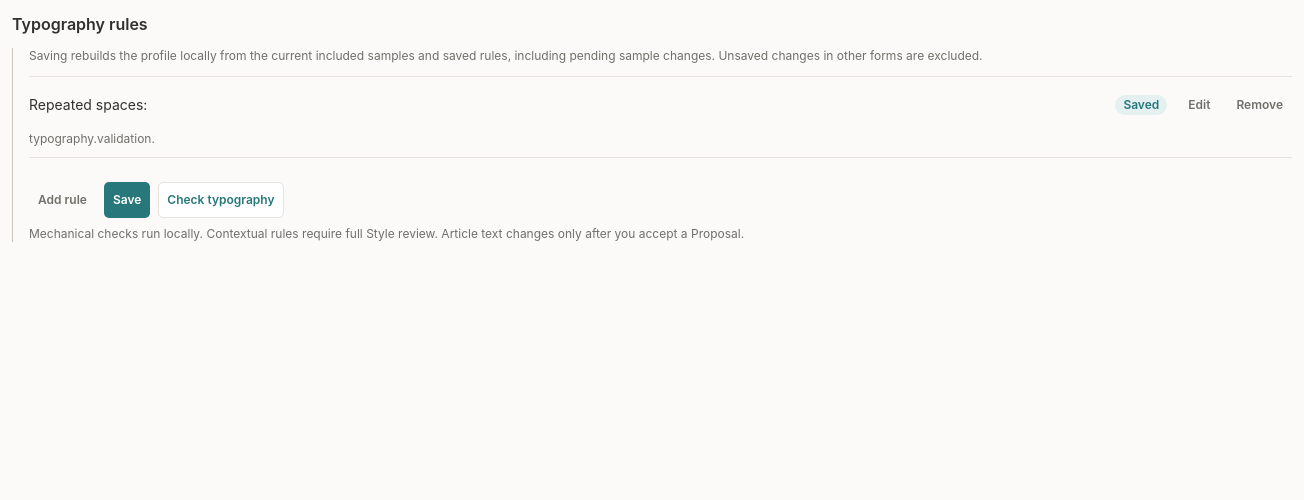
Test: keeps saved rows compact and expands only the active rule with an unsaved label
The width and height of the screenshot is (1304, 500).
Expected: the text "Saved" is shown, [1115,95,1167,115]
Click the button "Edit": {"x": 1199, "y": 105} [1179,87,1219,123]
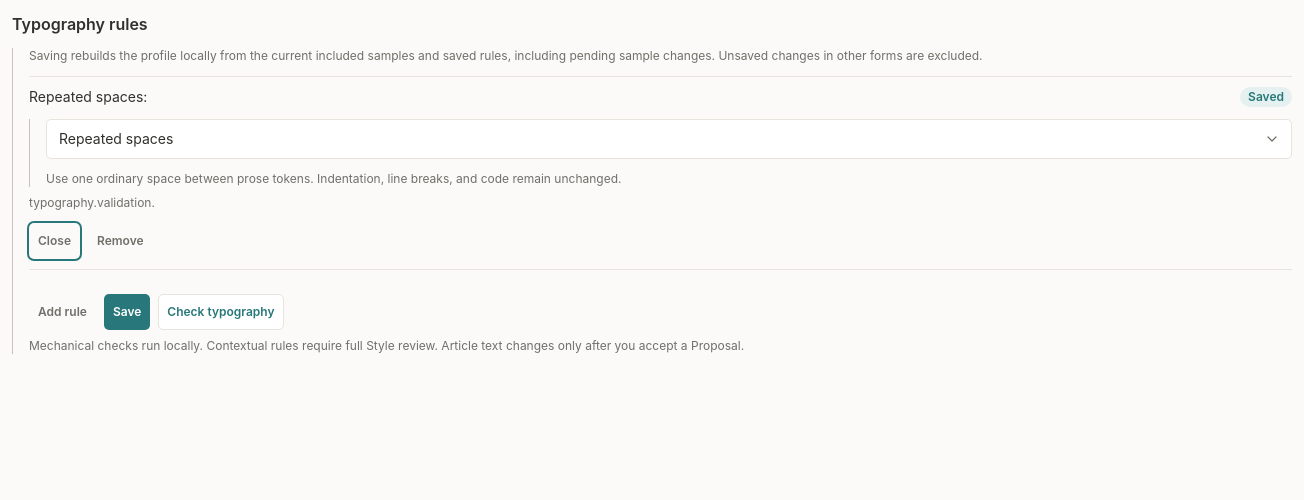
Result: the dropdown named "Rule 1 convention" is shown at [46,119,1292,159]
Click the button "Add rule": {"x": 62, "y": 312} [29,294,96,330]
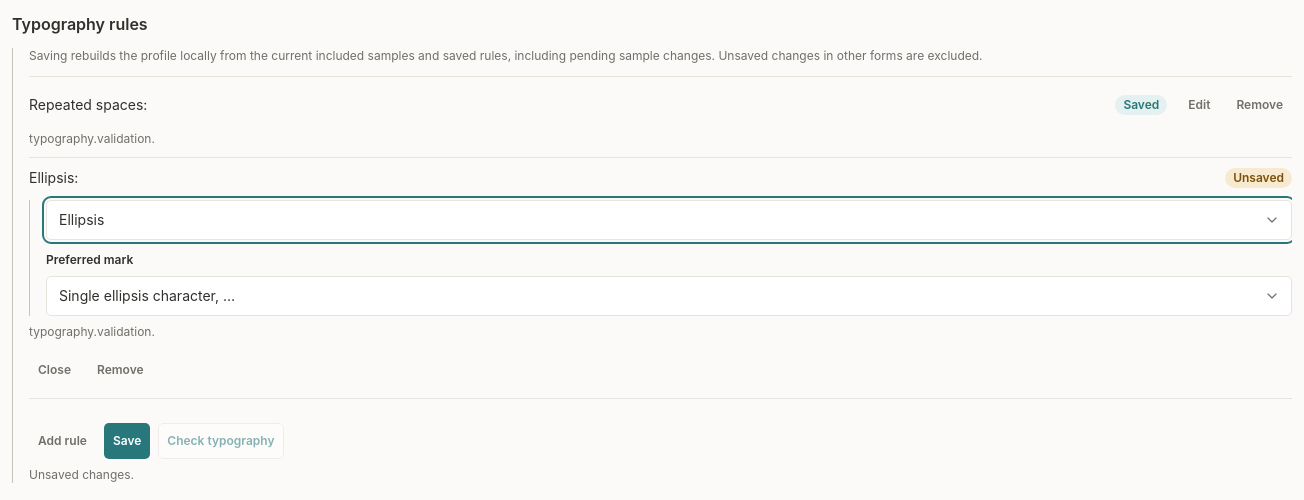
Result: the text "Unsaved" is shown at [1225,168,1292,188]
Click the button "Close": {"x": 54, "y": 370} [29,352,80,388]
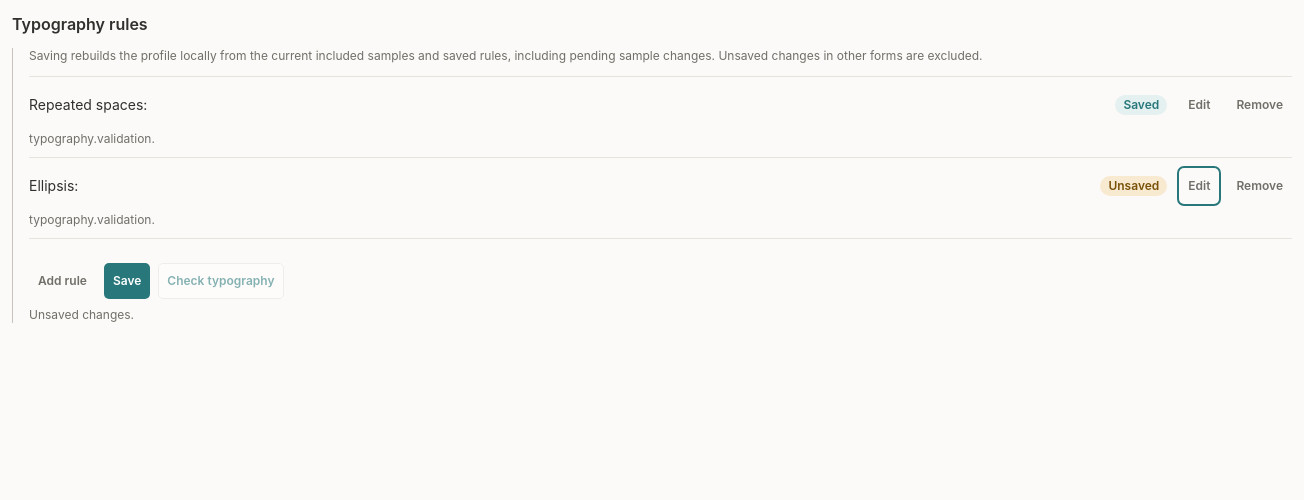
Result: the dropdown is gone
